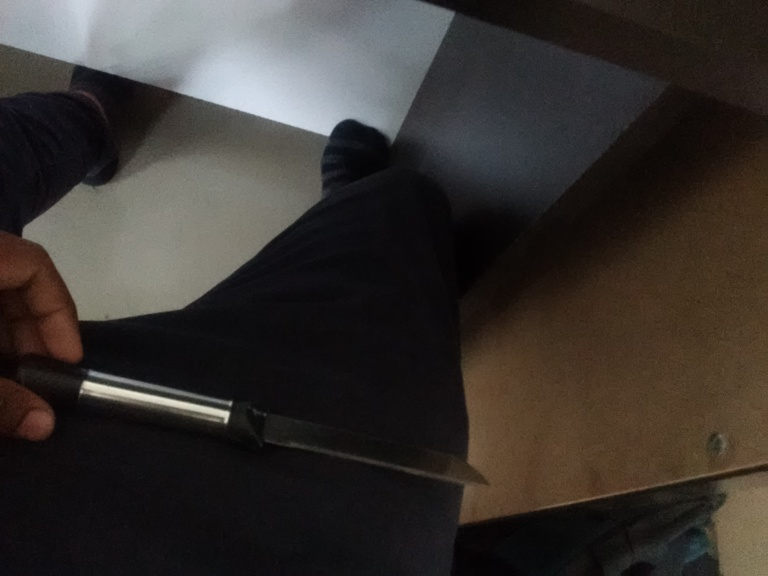knife: (17, 347, 492, 489)
